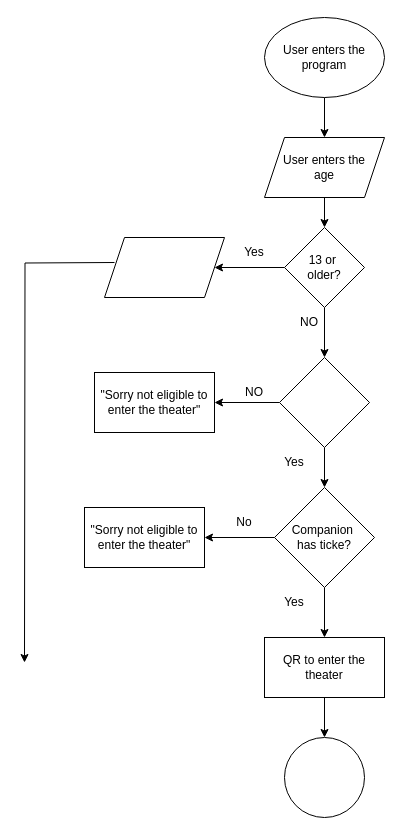
Image size: 402x835. Some labels were removed from this diagram. The shapes that lost their labels are listed below. From the top down, each one's centre as x and y in pixels, then its label:
the point at 164,267: User enters ticket
the point at 324,402: Has companion?
the point at 324,777: End
